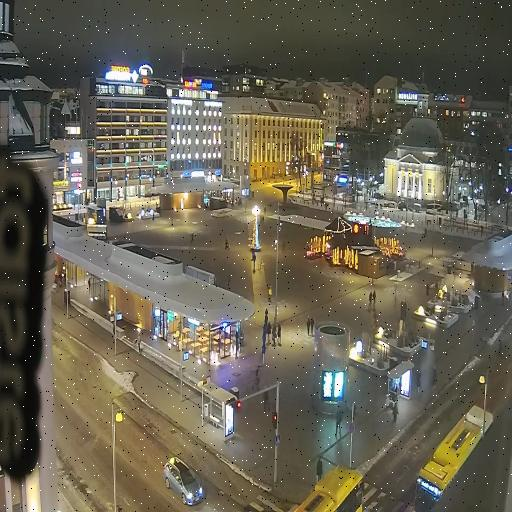Bus: (412, 406, 490, 511), (292, 464, 364, 511)
Car: (163, 457, 204, 505)
